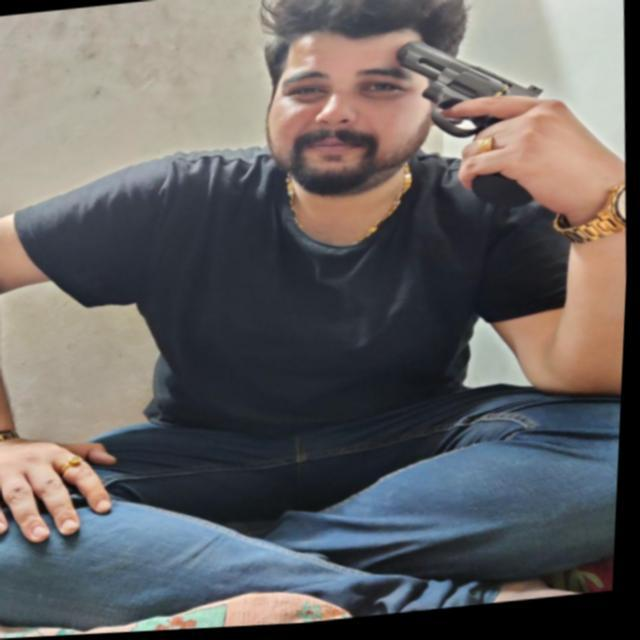weapon: (376, 17, 596, 236)
